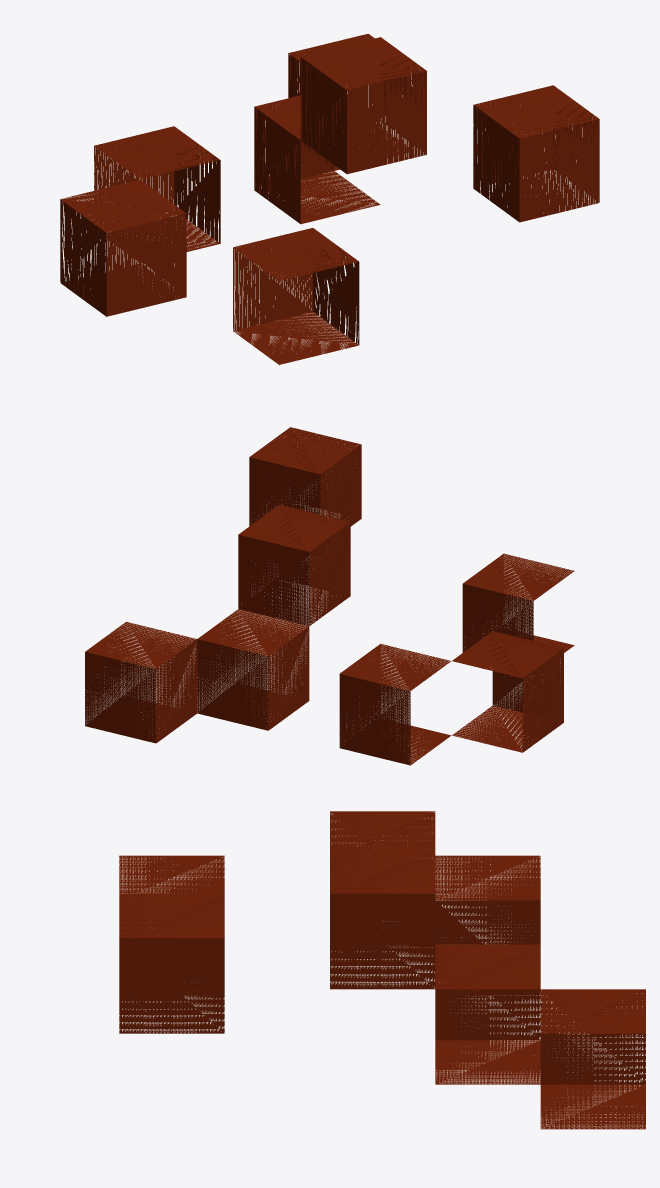
File: Sliced_Carrot.obj
3 views of the same model, one above another, from view 1: azimuth 30°, elevation 25°; view 2: azimuth 150°, elevation 25°; view 3: azimuth 270°, elevation 25° (orthographic). The views are drawn at different scales.
Size of the model in its own units: 0.6 by 0.2 by 0.6.
